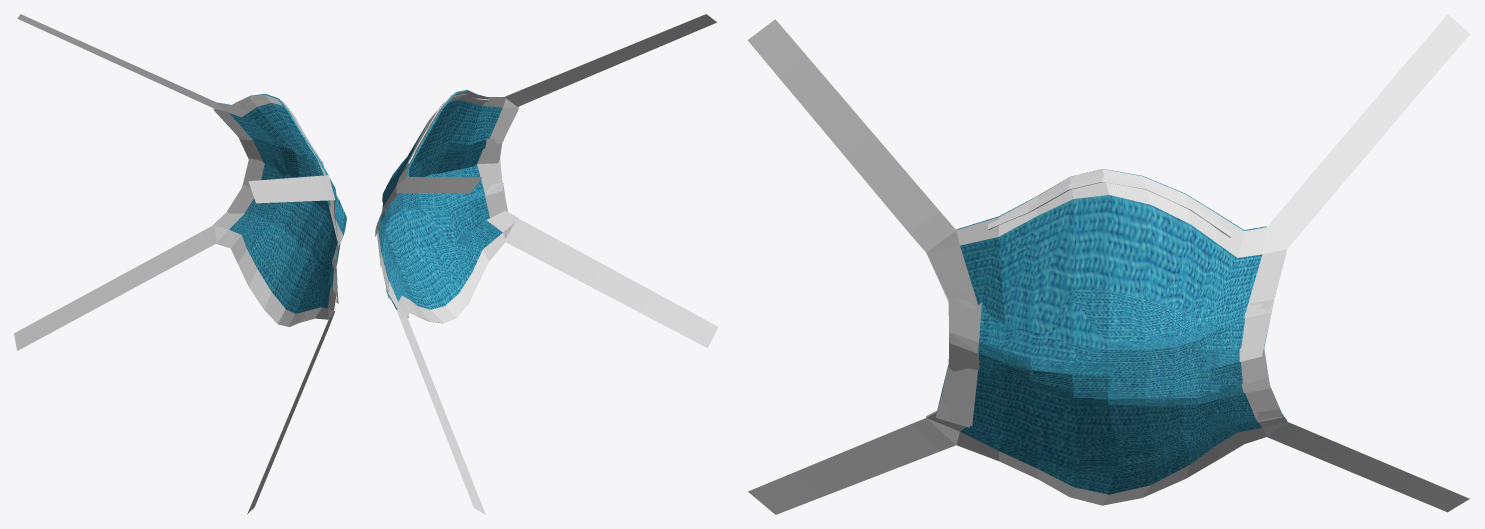
Rendered from medical_mask333.gltf.
3 renders of one model, left to right at view 1: azimuth 30°, elevation 25°; view 2: azimuth 150°, elevation 25°; view 3: azimuth 270°, elevation 25°, orthographic. The views are drawn at different scales.
Visible parts, largest first — view 1: node-0; view 2: node-0; view 3: node-0.
Part boxes in pixels (x1=…): node-0: x1=14, y1=14, x2=346, y2=514; node-0: x1=375, y1=14, x2=718, y2=514; node-0: x1=747, y1=14, x2=1470, y2=514.
Bounding box in the file's own units: 2.9 × 4.7 × 6.15.
Materials: 3 (1 with a texture image).
